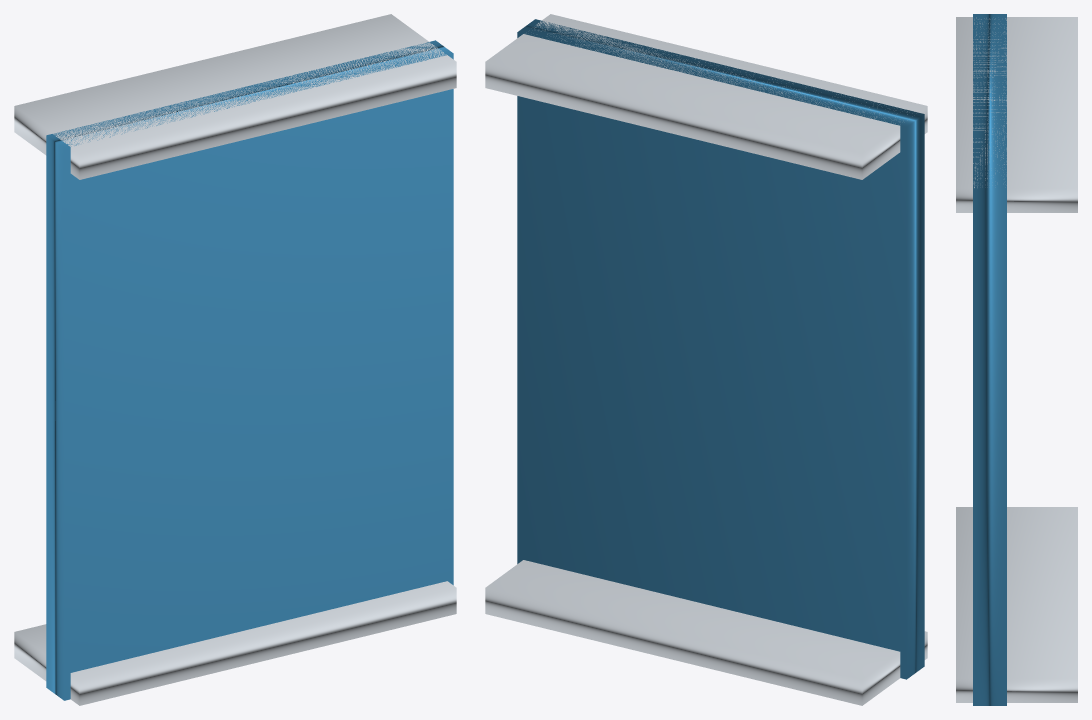
The picture shows the model from 3 angles, left to right: view 1: azimuth 30°, elevation 25°; view 2: azimuth 150°, elevation 25°; view 3: azimuth 270°, elevation 25°; orthographic projection. The views are drawn at different scales.
Parts seen in each view (by area): view 1: shooter_hood, hood_side_1, hood_side; view 2: shooter_hood, hood_side_1, hood_side; view 3: shooter_hood, hood_side_1, hood_side.
Boxes of the visible parts, x1,y1,x2,y2 form: shooter_hood: (46, 40, 453, 700); hood_side_1: (14, 14, 456, 179); hood_side: (14, 581, 456, 705); shooter_hood: (517, 19, 924, 679); hood_side_1: (485, 14, 927, 179); hood_side: (485, 560, 927, 705); shooter_hood: (973, 14, 1006, 705); hood_side_1: (956, 17, 1077, 212); hood_side: (956, 507, 1077, 702).
Size of the model in its own units: 0.31 by 0.42 by 0.09.
